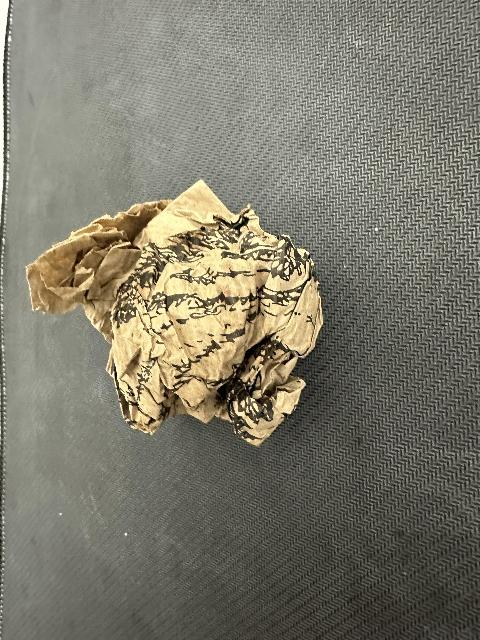Kagit: (21, 179, 324, 443)
